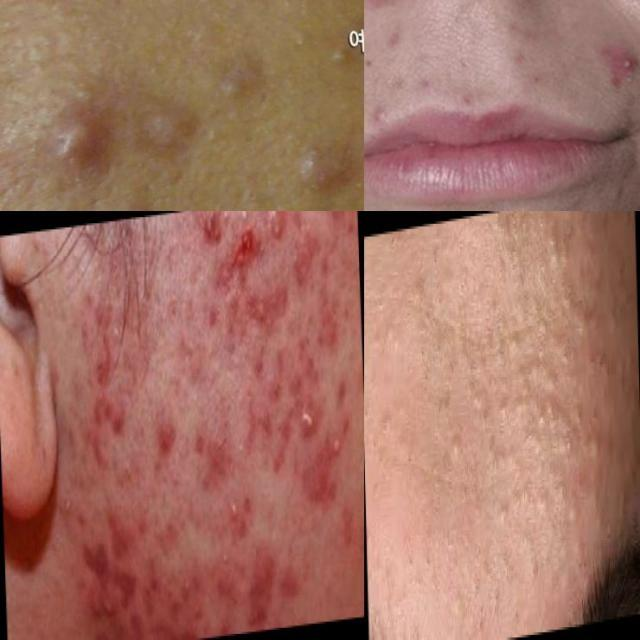Pimples: (23, 100, 122, 191), (464, 543, 550, 640), (401, 511, 444, 606), (364, 390, 386, 504), (582, 329, 617, 398), (89, 329, 121, 397), (479, 390, 503, 480), (230, 220, 260, 288), (88, 578, 120, 635), (262, 211, 292, 262), (116, 438, 140, 500), (418, 331, 436, 413), (364, 100, 401, 138), (222, 487, 248, 541), (194, 211, 224, 256), (294, 391, 320, 442), (59, 488, 79, 536), (329, 427, 348, 477), (216, 543, 236, 584), (618, 52, 640, 80), (631, 186, 640, 207)
